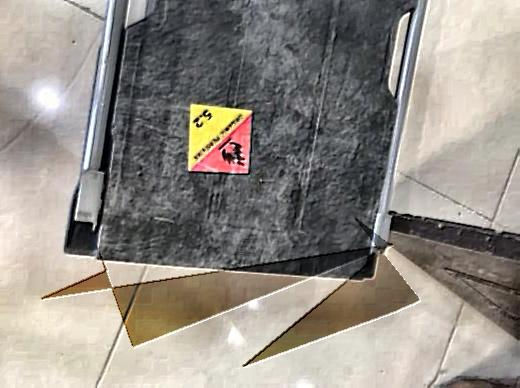organic-peroxide: (189, 103, 253, 175)
